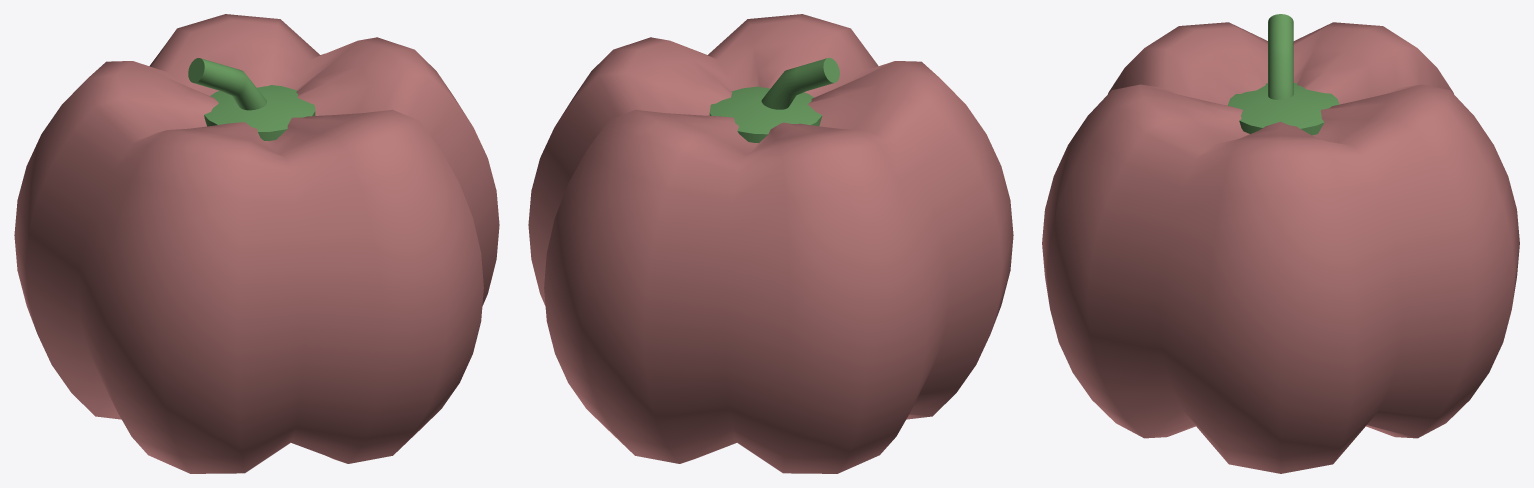
The model's file is Bell Pepper Growth.fbx.
3 views of the same model, side by side, from view 1: azimuth 30°, elevation 25°; view 2: azimuth 150°, elevation 25°; view 3: azimuth 270°, elevation 25° (orthographic).
Visible parts, largest first — view 1: pSphere4, pCylinder45, pCylinder44; view 2: pSphere4, pCylinder45, pCylinder44; view 3: pSphere4, pCylinder45, pCylinder44.
Boxes of the visible parts, x1,y1,x2,y2 form: pSphere4: (14,14,499,473); pCylinder45: (204,85,315,140); pCylinder44: (188,58,266,110); pSphere4: (528,14,1013,473); pCylinder45: (709,86,822,142); pCylinder44: (761,58,839,109); pSphere4: (1042,22,1519,473); pCylinder45: (1227,83,1339,135); pCylinder44: (1268,14,1293,99).
Bounding box in the file's own units: 15.99 × 13.57 × 16.18.
